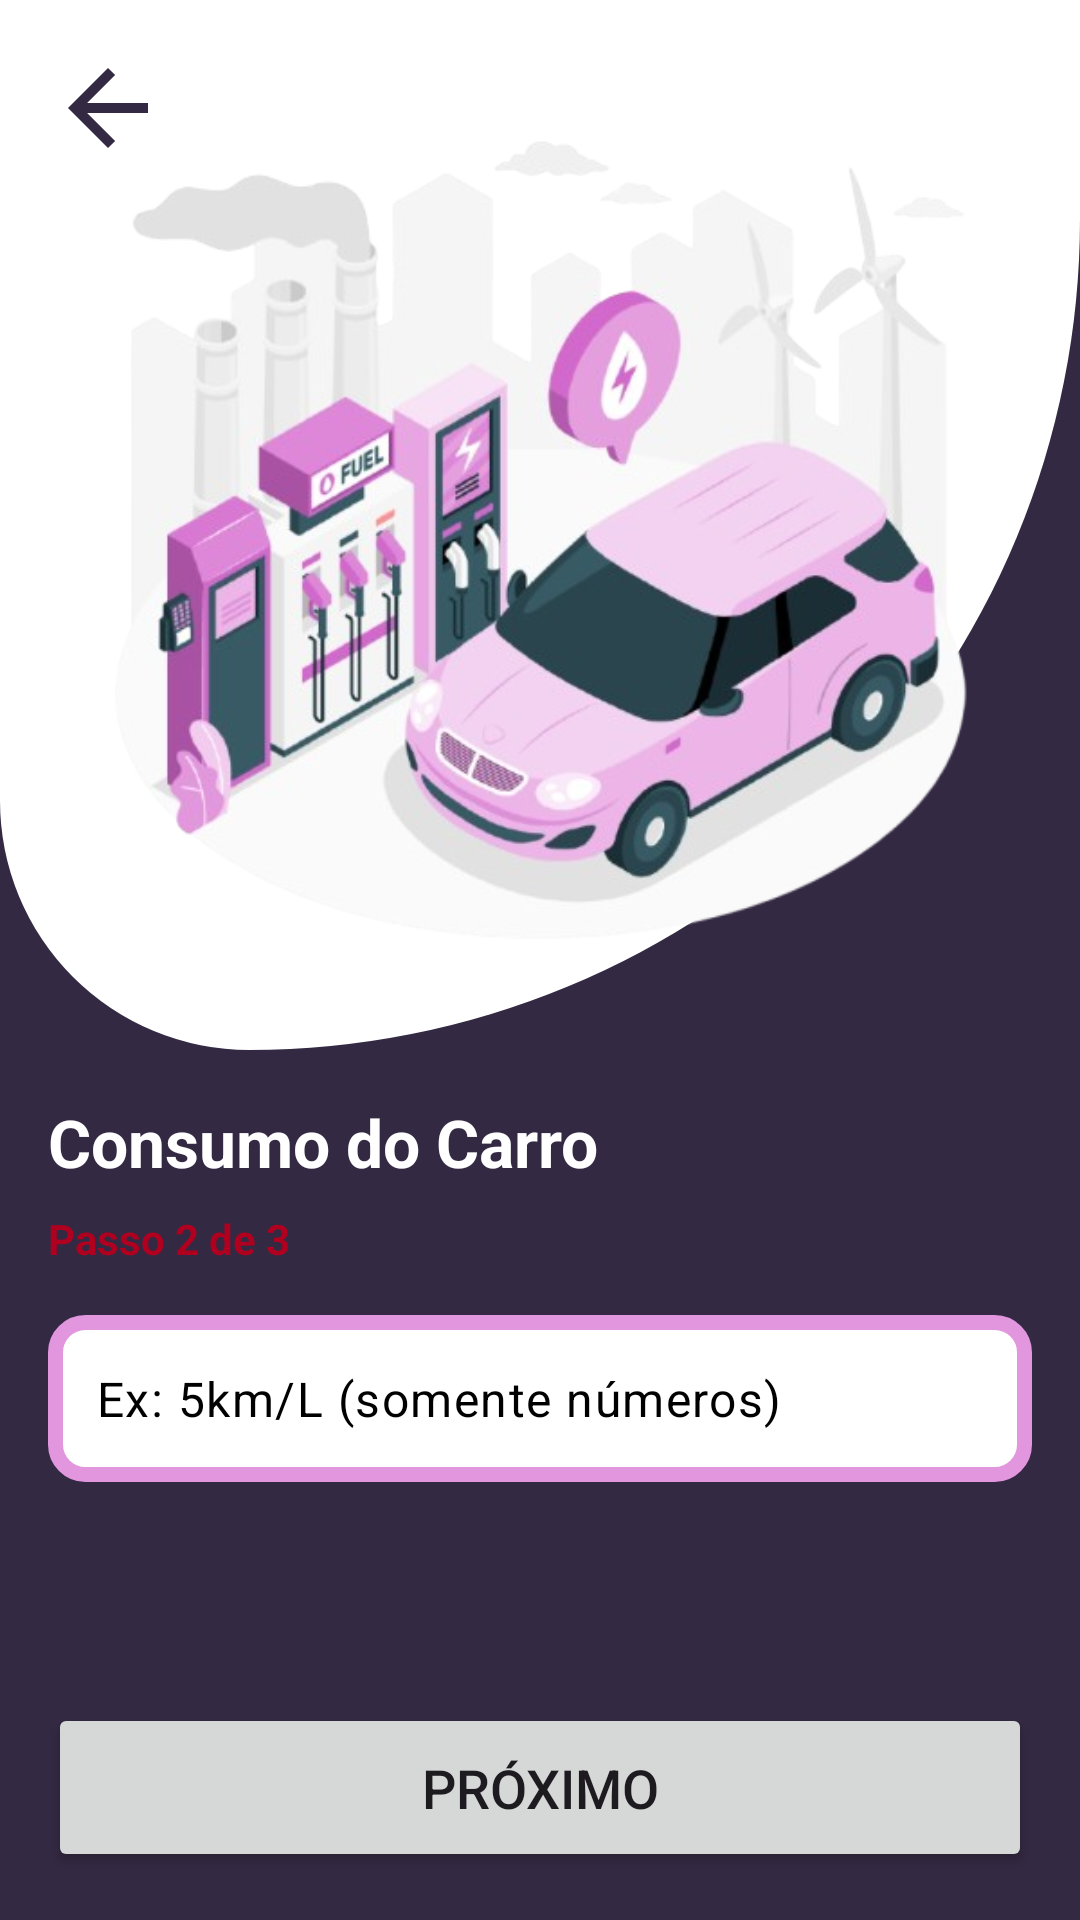

Screen size 1080px x 1920px. Icon name, then its box in pixels as [left=x1, top=y1, right=x2, bottom=y2]:
arrow back: [left=68, top=68, right=148, bottom=148]
